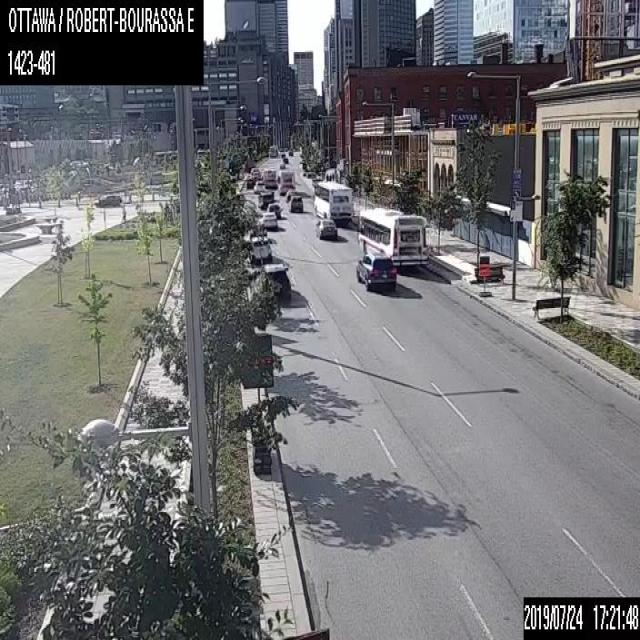bus: (357, 206, 429, 266), (311, 180, 352, 226), (277, 169, 295, 195), (263, 168, 276, 188), (268, 144, 278, 156)
construction: (240, 334, 273, 474), (477, 261, 490, 295)
vehicle: (356, 252, 396, 290), (257, 262, 290, 302), (248, 235, 271, 262), (314, 219, 336, 240), (95, 192, 120, 207), (258, 211, 276, 229), (257, 190, 273, 210), (288, 194, 302, 212), (266, 202, 281, 217), (284, 188, 296, 200), (252, 180, 262, 192), (246, 176, 253, 188), (282, 156, 288, 162)
